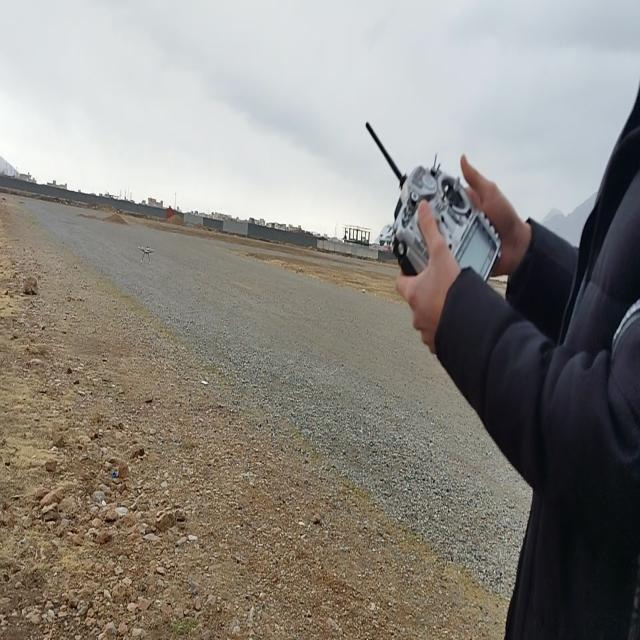drone: (137, 242, 158, 266)
